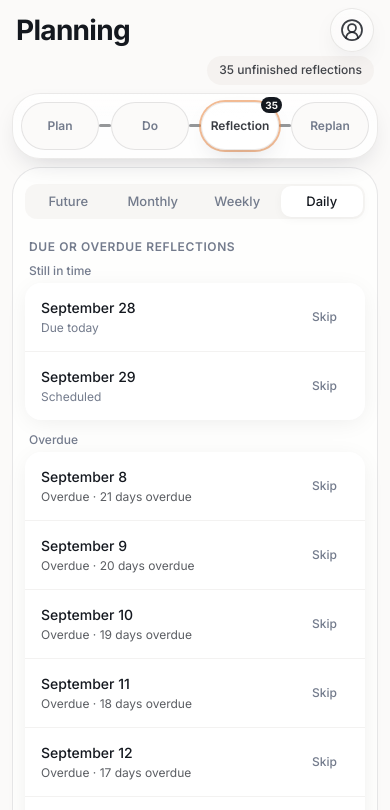
Test: Reflection Plan entry and center › lists Daily / Weekly / Monthly / Future plus due or overdue reflections
Expected: the heading "Planning" is shown, [16,12,130,48]
Click the tab "Weekly".
click(237, 201)  # box [196,186,278,217]
(page scrolled)
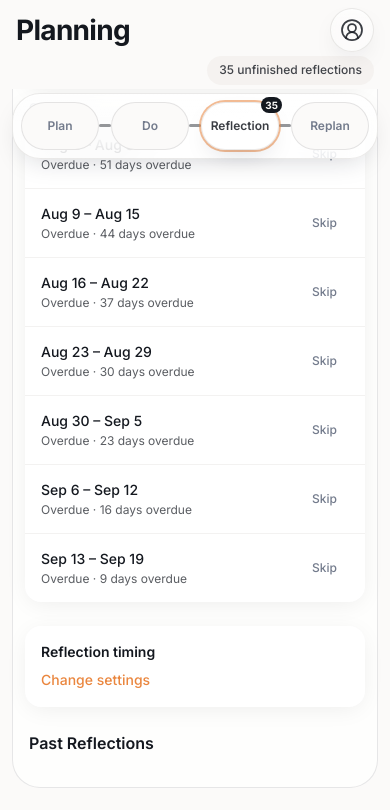
Expected: the text "Reflection timing" is shown, [41,643,155,660]
Expected: the button with test id "reflection-timing-settings" reads "Change settings", [41,670,150,690]
